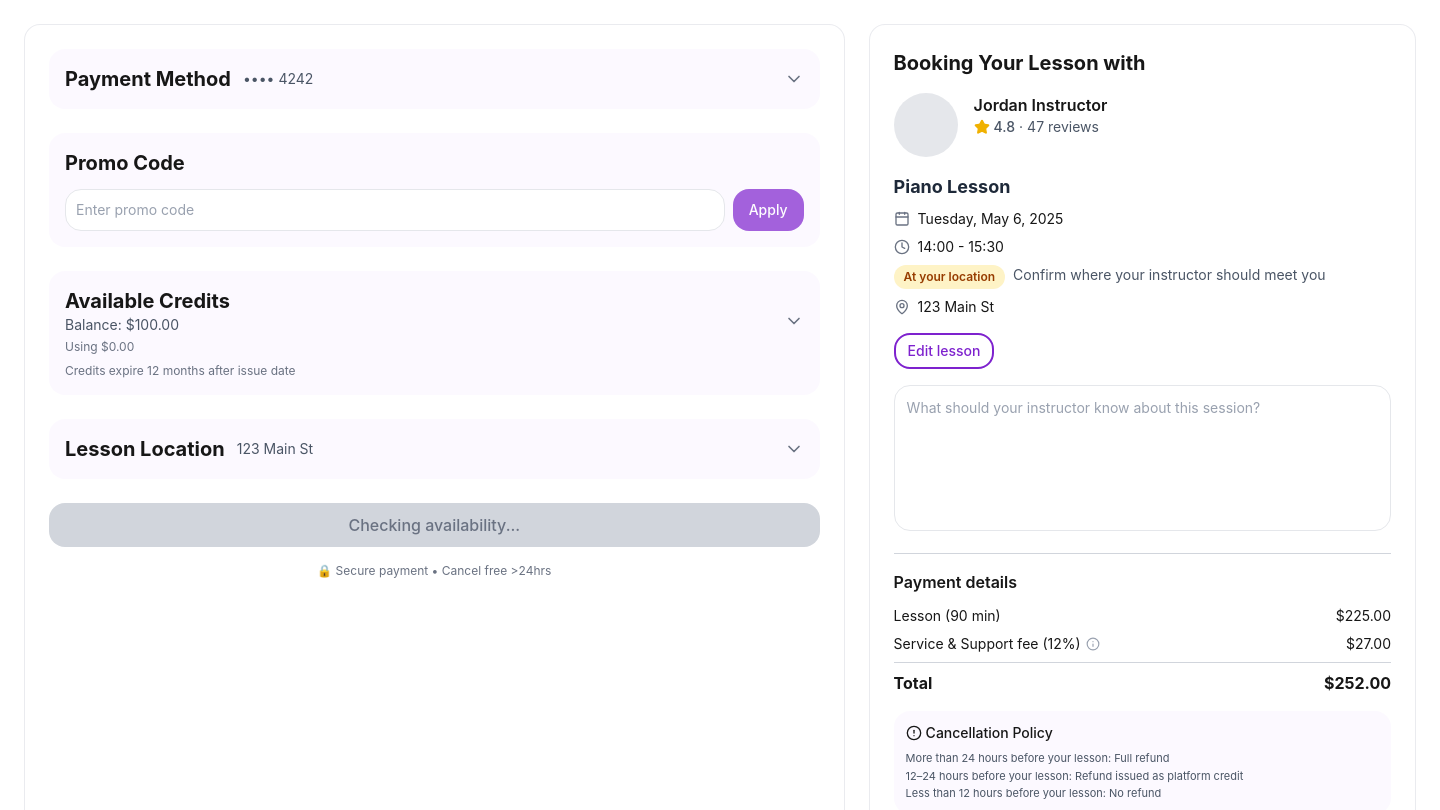
Test: Credits slider commit behaviour › debounces credit commits until slider release and keeps the applied amount
Click the heading "Available Credits" at point(147, 301), box 65,289 -> 230,313
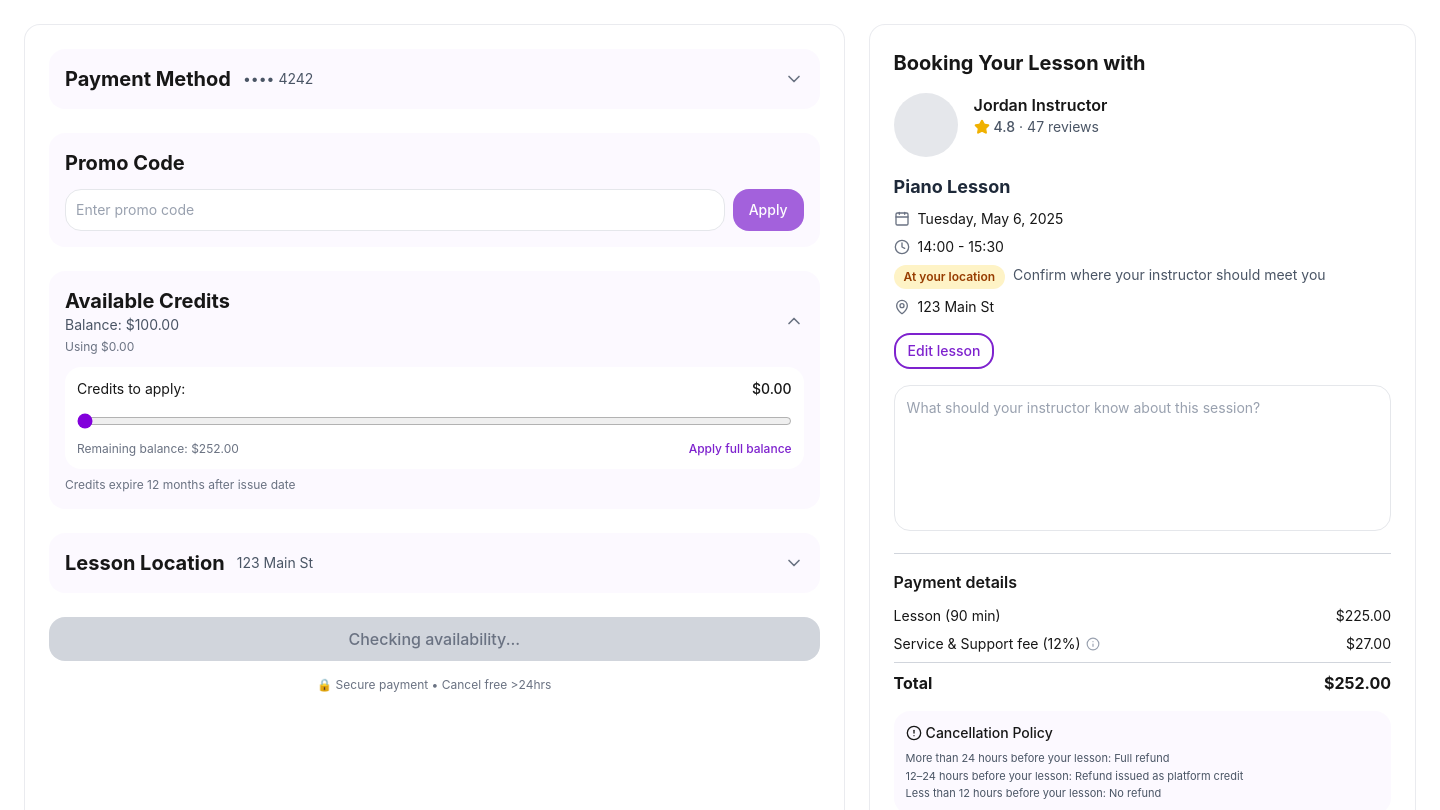
Set the slider to "10" at point(155, 421), box 77,413 -> 792,429
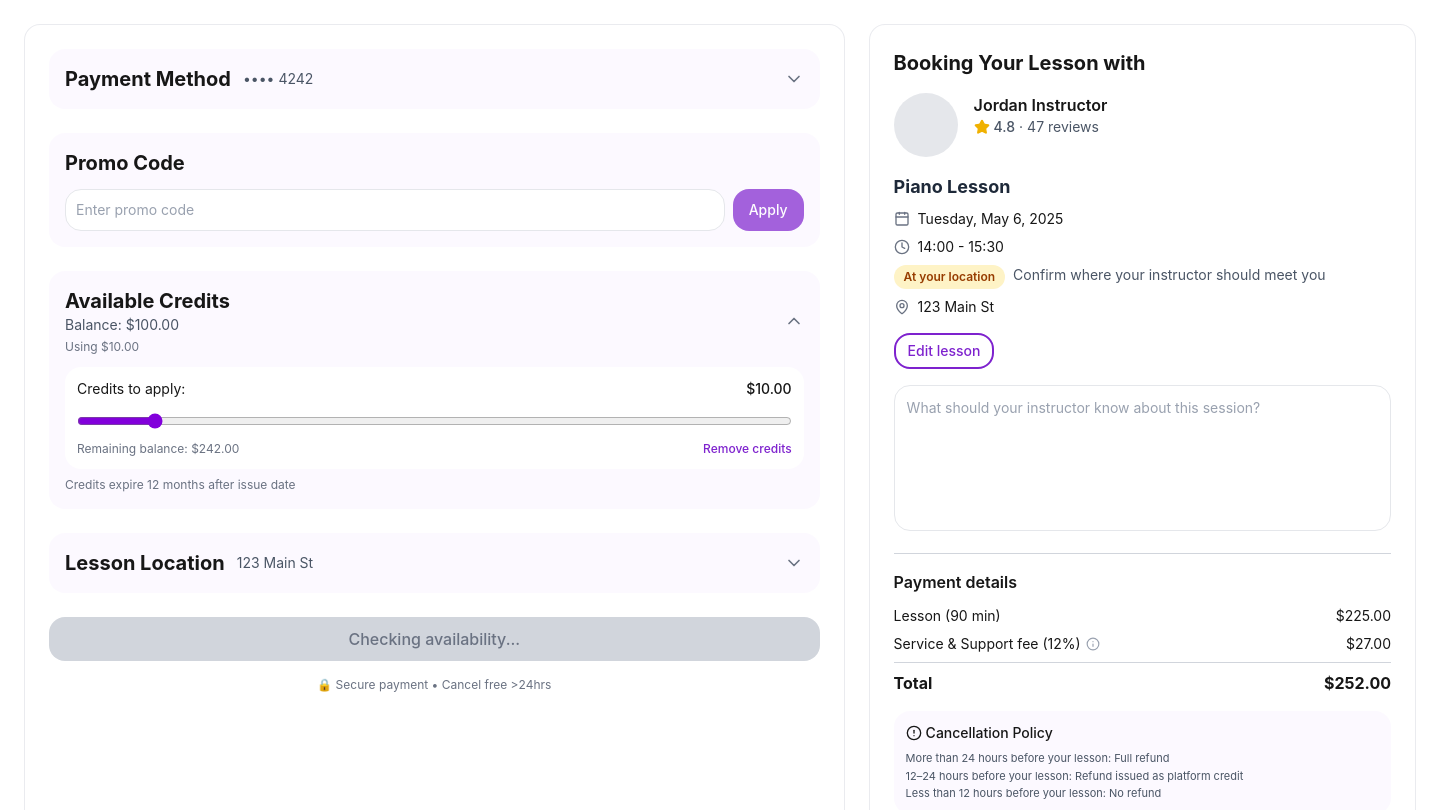
Set the slider to "25" at point(260, 421), box 77,413 -> 792,429
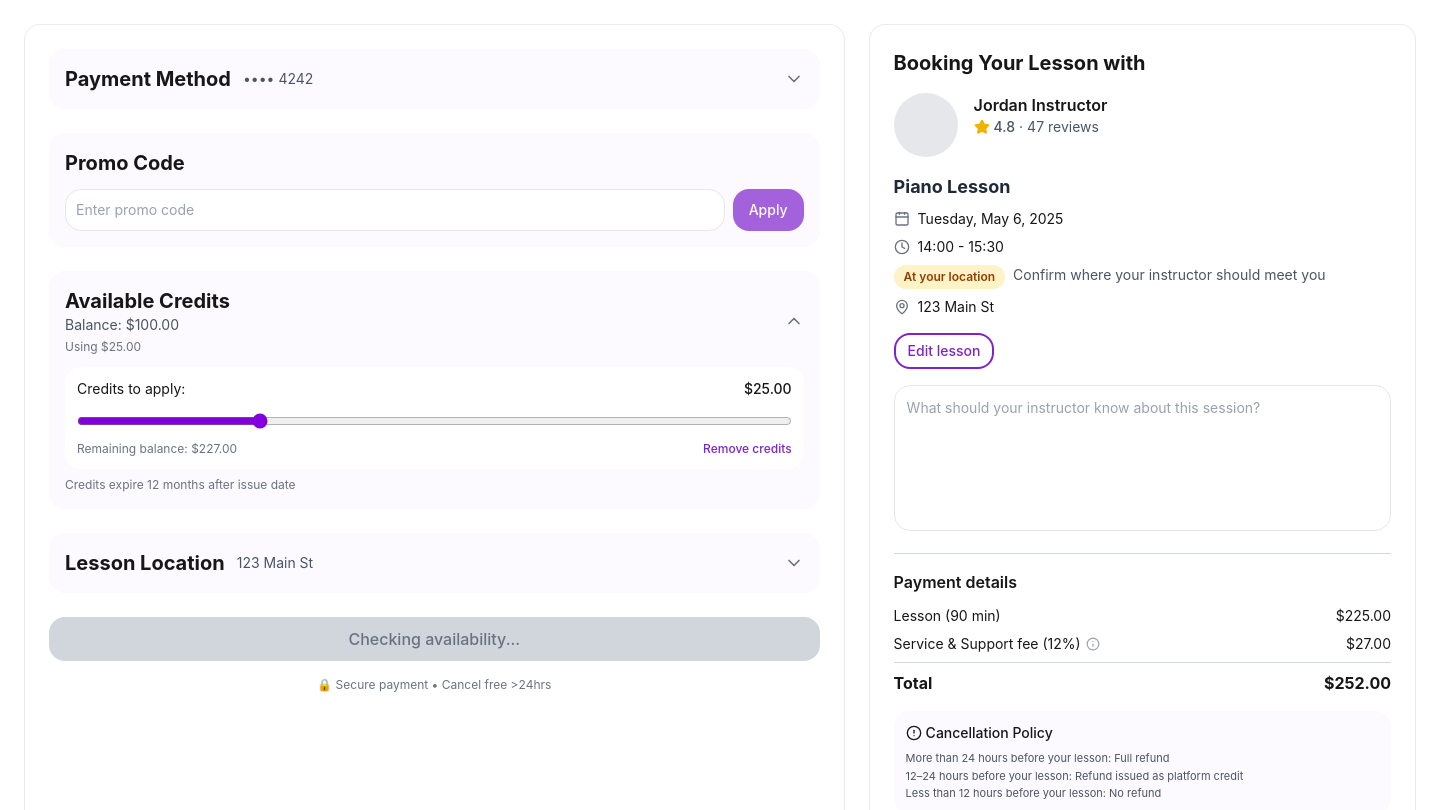
Set the slider to "45" at point(399, 421), box 77,413 -> 792,429
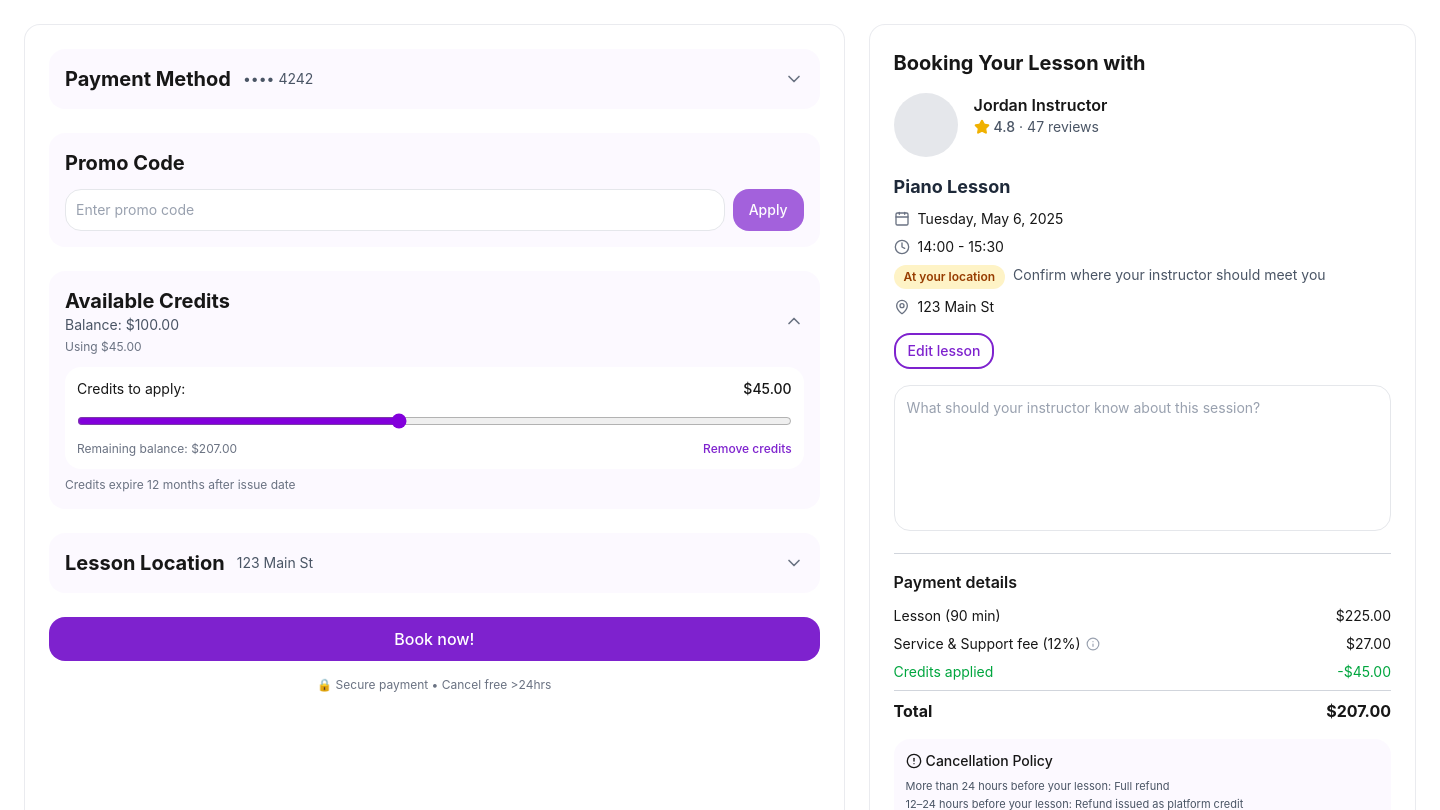
Check: the text "-$45.00" is shown, box 1337,662 -> 1391,682
Check: the text "$207.00" is shown, box 1326,699 -> 1391,723
